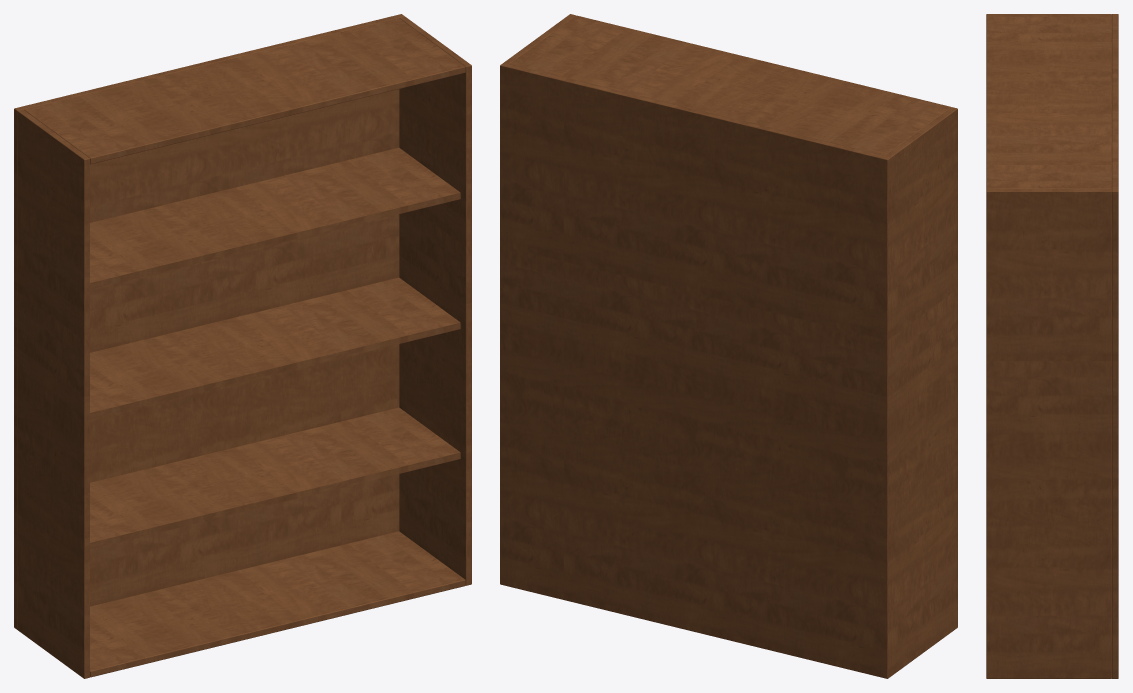
File: shelf_cabinet_4OH120_FINAL.fbx
3 views of the same model, side by side, from view 1: azimuth 30°, elevation 25°; view 2: azimuth 150°, elevation 25°; view 3: azimuth 270°, elevation 25° (orthographic). The views are drawn at different scales.
Visible parts, largest first — view 1: test:polySurface1; view 2: test:polySurface1; view 3: test:polySurface1.
Part boxes in pixels (left/top/right/bottom): test:polySurface1: left=14, top=14, right=471, bottom=678; test:polySurface1: left=500, top=14, right=957, bottom=678; test:polySurface1: left=986, top=14, right=1118, bottom=678.
Bounding box in the file's own units: 120 × 154 × 37.7.
